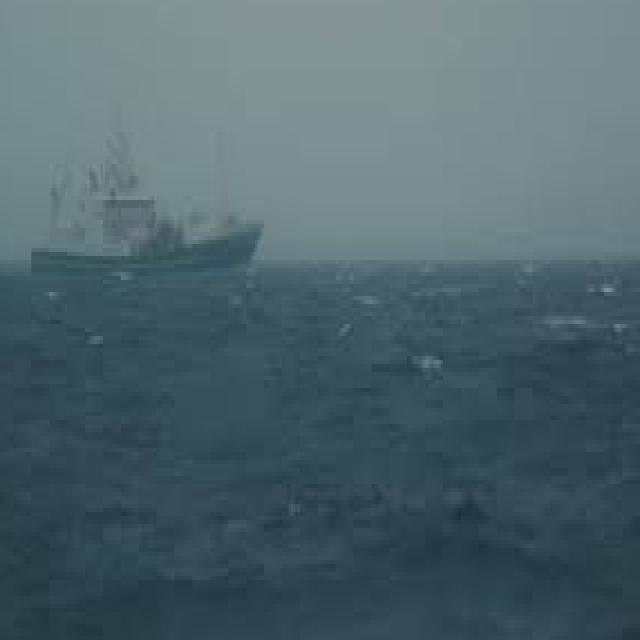fishing boat: (17, 120, 261, 280)
